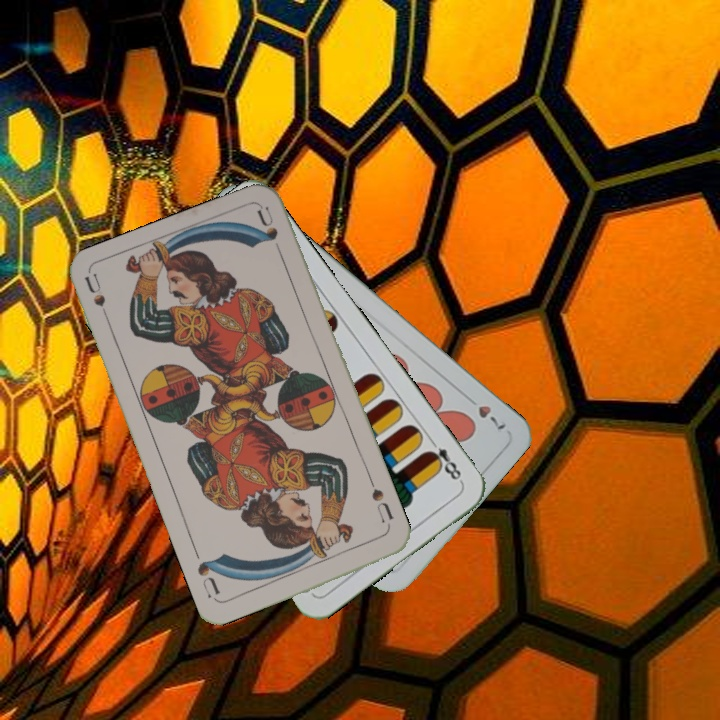E8: (422, 434, 465, 487)
H7: (461, 390, 509, 433)
SU: (81, 271, 114, 329), (367, 484, 396, 533)
